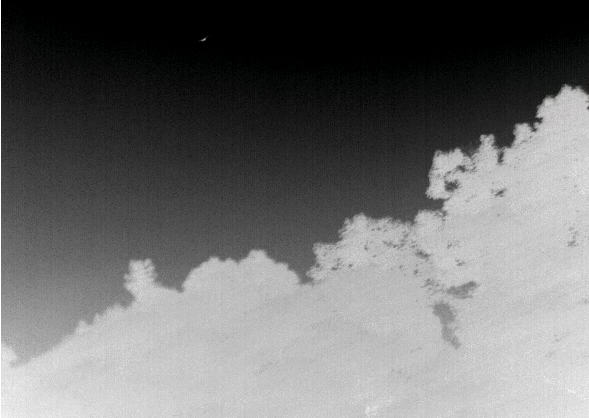dim target: (200, 35, 207, 42)
